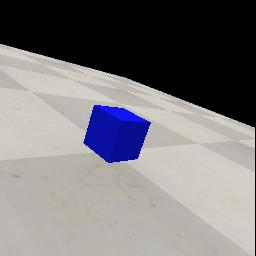box: (83, 105, 151, 163)
